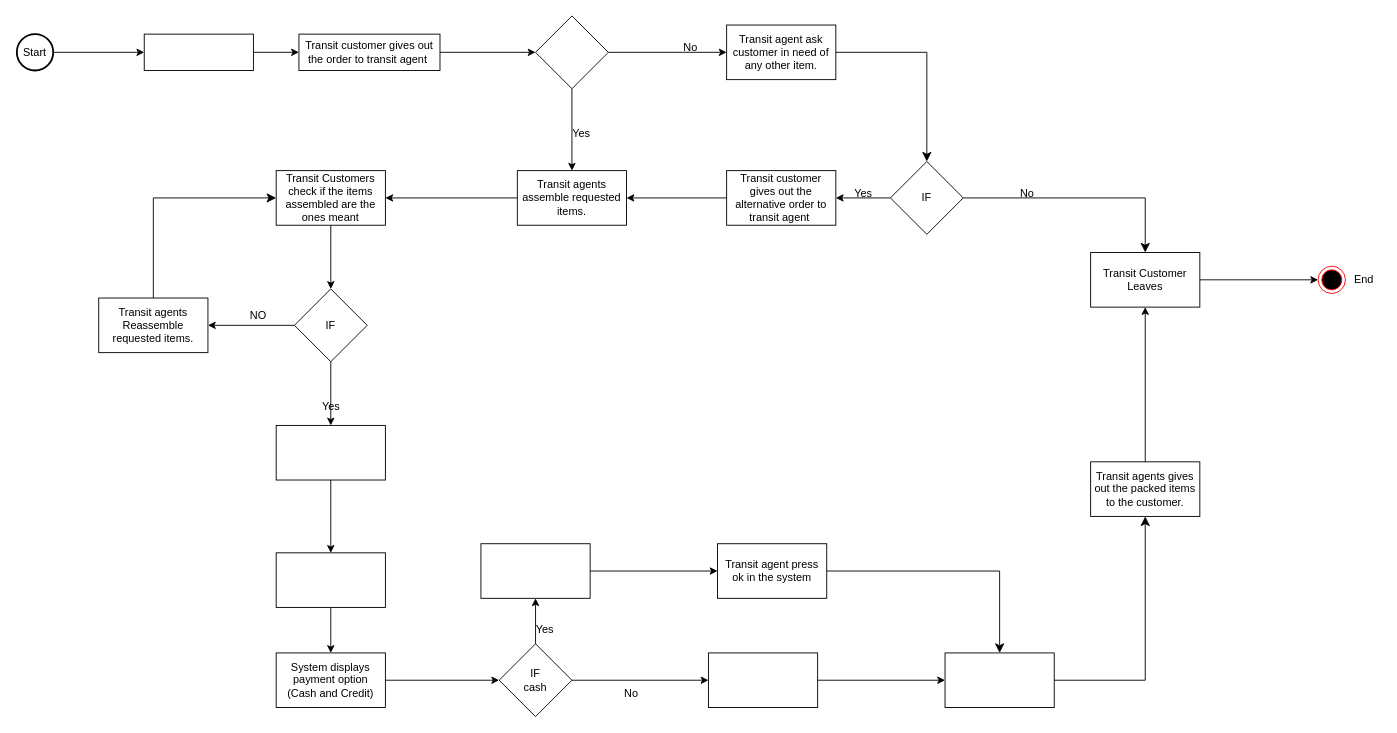
Some shapes in this 1397 by 733 pixel diagram are drawn without their labels. Each missing label, with the centre of its shape:
System generates receipt: point 999,680
System generates the total to be paid: point 330,579
Transit agent confirms availabilty of items: point 571,52
Transit agent enters the items into the system: point 330,452
Transit Customer enters the kioks.: point 198,52
Transit customer insert credit card in the system machine: point 763,680
Transit customer moves to the counter: point 535,570
